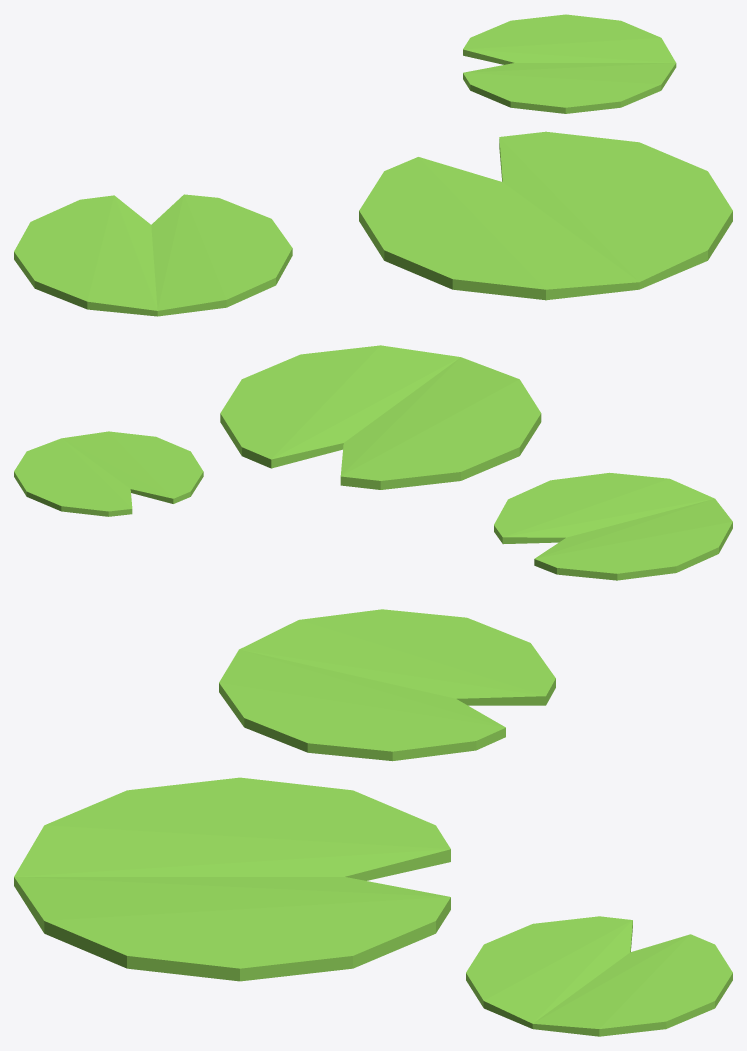
Rendered from lotus_leafs.fbx.
3 views of the same model, one above another, from view 1: azimuth 30°, elevation 25°; view 2: azimuth 150°, elevation 25°; view 3: azimuth 270°, elevation 25° (orthographic). The views are drawn at different scales.
Visible parts, largest first — view 1: lotus_leafs; view 2: lotus_leafs; view 3: lotus_leafs.
Part boxes in pixels (x1,y1,x2,y2): lotus_leafs: [14, 14, 732, 316]; lotus_leafs: [14, 345, 732, 580]; lotus_leafs: [14, 609, 732, 1036].
Bounding box in the file's own units: 166 × 2.34 × 119.
